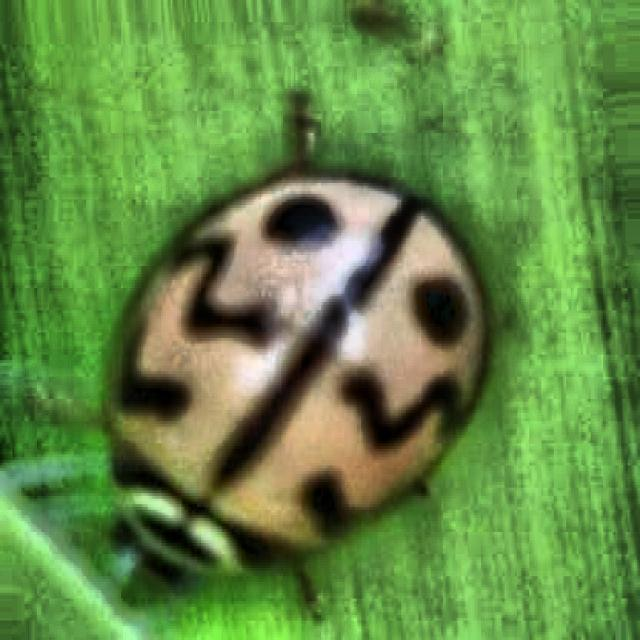Asian-Lady-beetle: (69, 113, 508, 640)
